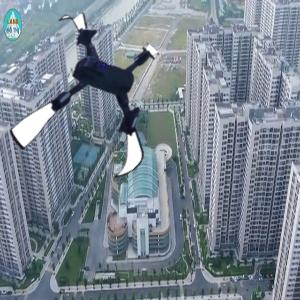drone: (7, 19, 174, 186)
